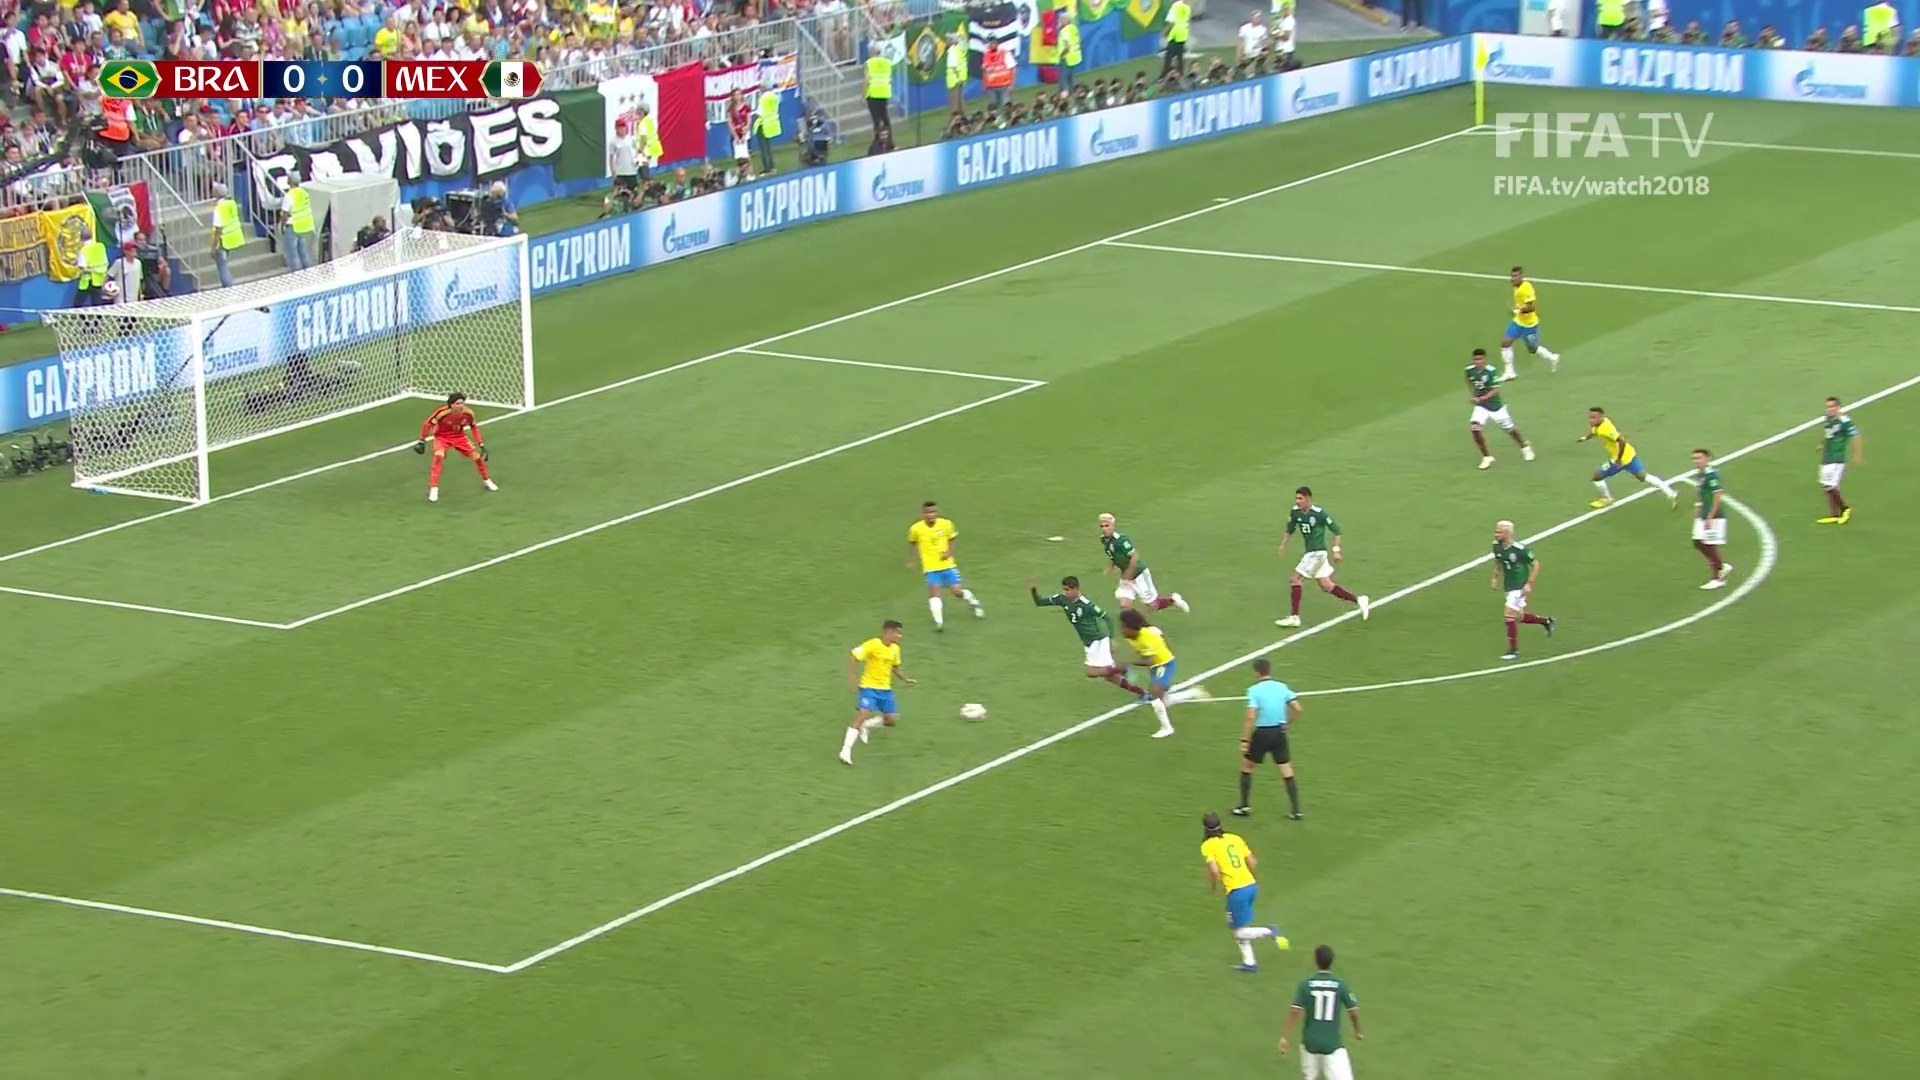ball: (960, 704, 989, 721)
person: (1026, 574, 1142, 705), (1204, 812, 1287, 971), (1279, 488, 1368, 625), (1280, 947, 1365, 1080), (1123, 611, 1210, 739), (838, 620, 915, 759), (905, 502, 987, 631), (1094, 512, 1190, 620), (1580, 406, 1679, 508), (1489, 520, 1555, 664), (415, 394, 498, 500), (1465, 351, 1536, 473), (1497, 267, 1558, 380), (1687, 450, 1732, 589), (1819, 401, 1859, 524)
